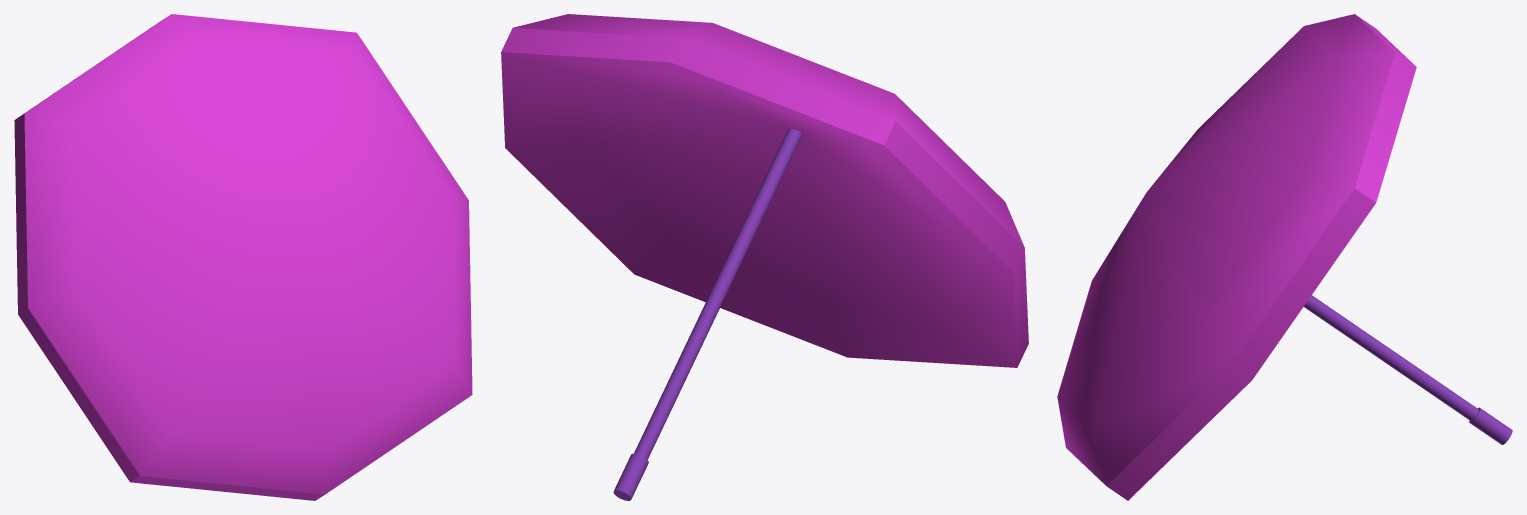
The model's file is Umbrella Complete.fbx.
The picture shows the model from 3 angles, left to right: view 1: azimuth 30°, elevation 25°; view 2: azimuth 150°, elevation 25°; view 3: azimuth 270°, elevation 25°; orthographic projection. The views are drawn at different scales.
Parts seen in each view (by area): view 1: pCube1; view 2: pCube1, pCylinder1, pCylinder3; view 3: pCube1, pCylinder1, pCylinder3.
Part boxes in pixels (x1,y1,x2,y2): pCube1: [14, 14, 472, 500]; pCube1: [501, 14, 1028, 367]; pCylinder1: [634, 128, 802, 459]; pCylinder3: [613, 453, 648, 500]; pCube1: [1057, 14, 1416, 500]; pCylinder1: [1303, 295, 1478, 420]; pCylinder3: [1469, 407, 1512, 444].
Size of the model in its own units: 4.09 by 3.39 by 3.41.
